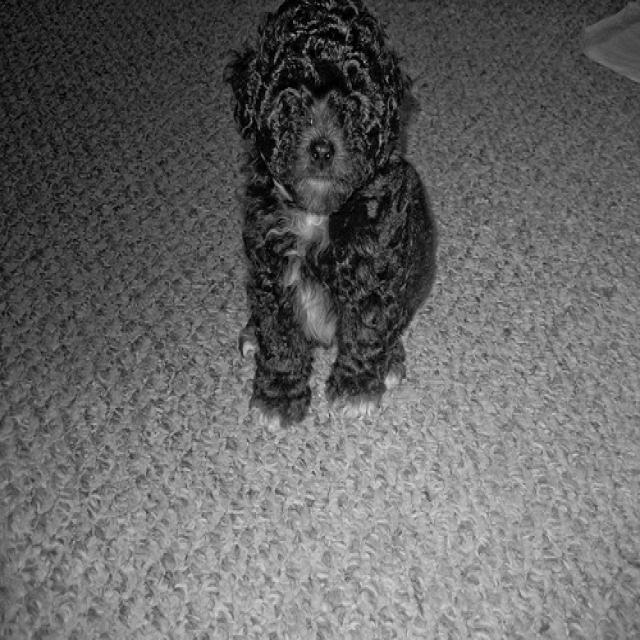dog-havanese: (225, 2, 435, 442)
